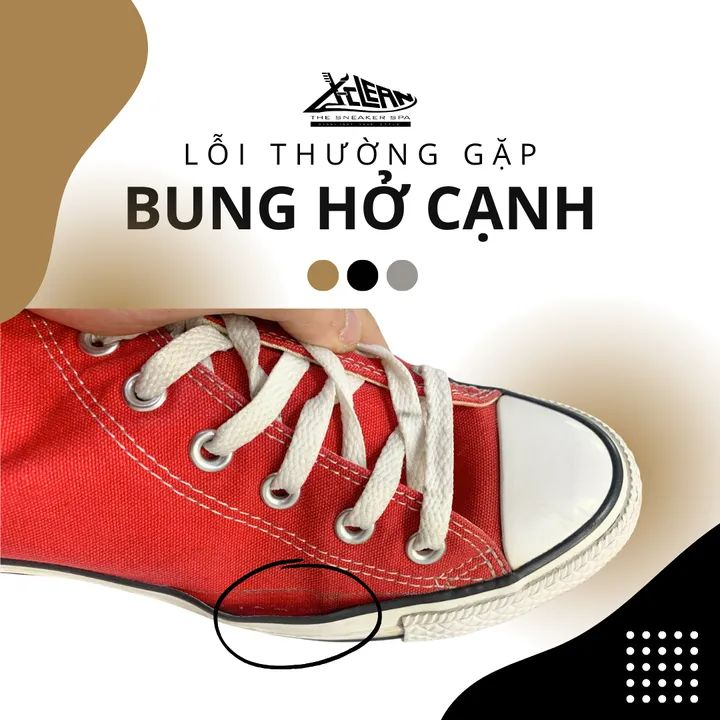bonding: (208, 594, 401, 622)
